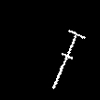double_crochet: (52, 30, 84, 88)
